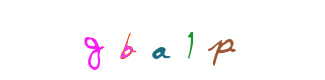1: (142, 0, 222, 80)
A: (130, 0, 210, 80)
B: (122, 0, 202, 80)
G: (60, 0, 140, 80)
P: (164, 0, 244, 80)
